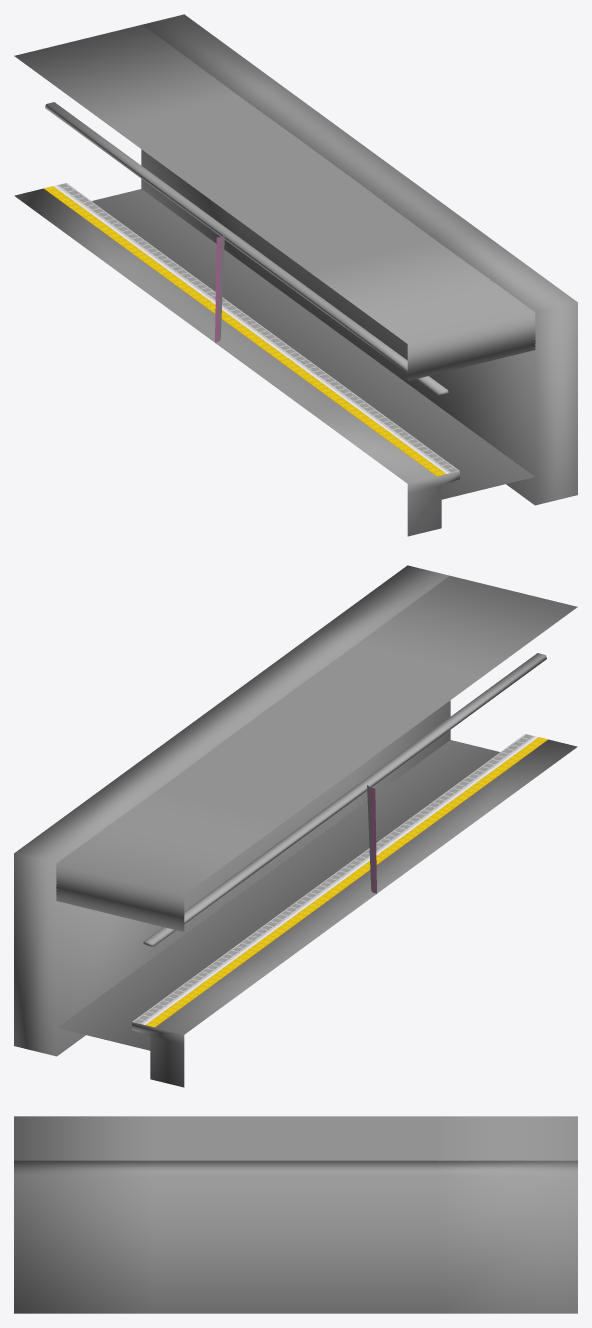
The model's file is END_ST_LEFT_W.glb.
The picture shows the model from 3 angles, top to bottom: view 1: azimuth 30°, elevation 25°; view 2: azimuth 150°, elevation 25°; view 3: azimuth 270°, elevation 25°; orthographic projection. The views are drawn at different scales.
Visible parts, largest first — view 1: Model; view 2: Model; view 3: Model.
Part boxes in pixels (x1,y1,x2,y2): Model: (14, 14, 577, 536); Model: (14, 565, 577, 1087); Model: (14, 1116, 577, 1313).
Bounding box in the file's own units: 25 × 27 × 100.
Materials: 3 (1 with a texture image).
